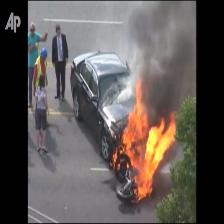fire: (122, 79, 175, 201)
